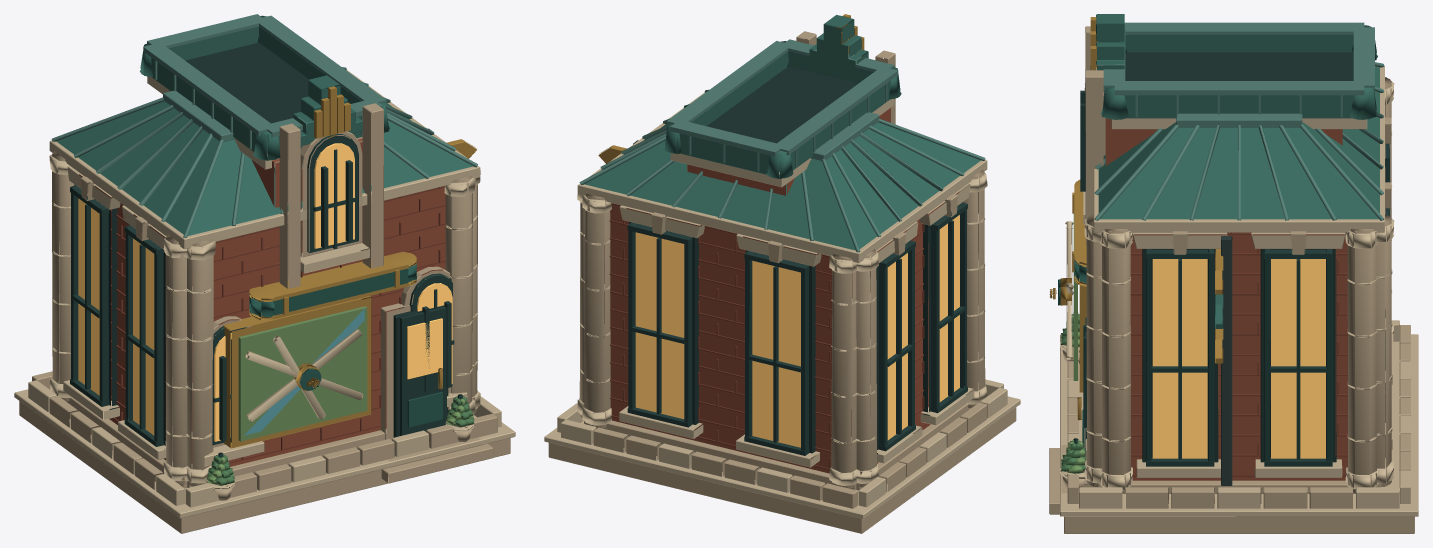
3 views of the same model, side by side, from view 1: azimuth 30°, elevation 25°; view 2: azimuth 150°, elevation 25°; view 3: azimuth 270°, elevation 25° (orthographic). The views are drawn at different scales.
Visible parts, largest first — view 1: expansion_junction_hub_geometry; view 2: expansion_junction_hub_geometry; view 3: expansion_junction_hub_geometry.
Boxes of the visible parts, x1,y1,x2,y2 form: expansion_junction_hub_geometry: (14, 14, 515, 533); expansion_junction_hub_geometry: (544, 14, 1020, 533); expansion_junction_hub_geometry: (1049, 14, 1418, 533).
Bounding box in the file's own units: 1.04 × 1.07 × 0.8328.
